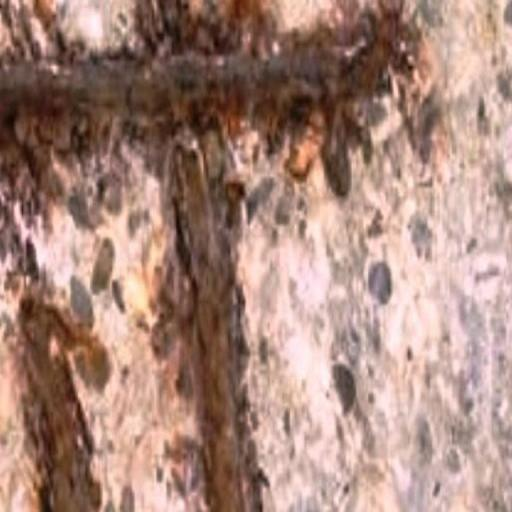spalling: (3, 22, 429, 512), (16, 287, 111, 512)
